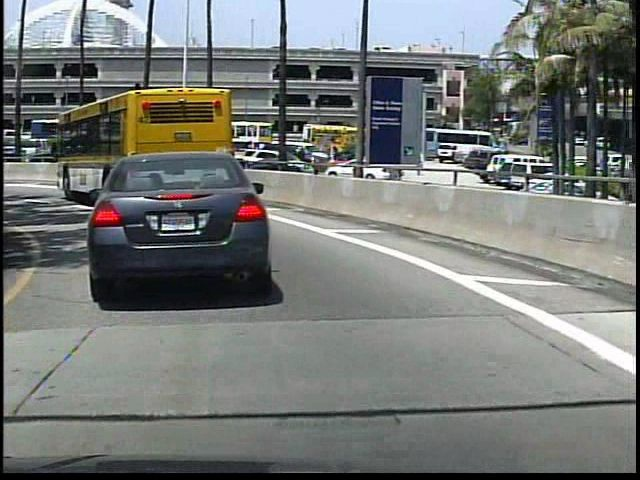person: (295, 145, 309, 176)
